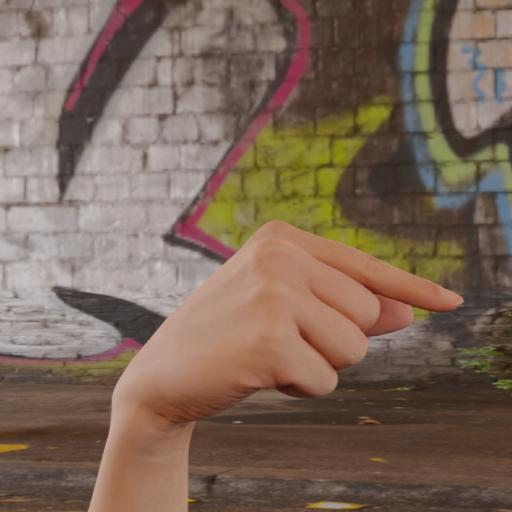G: (110, 218, 469, 420)
